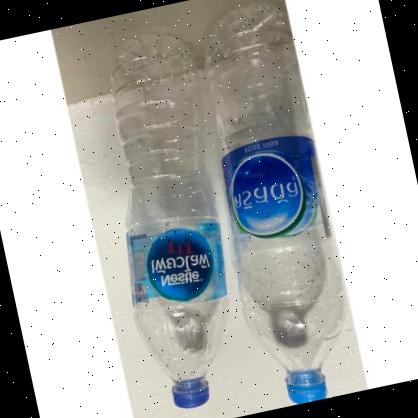bottle: (177, 0, 367, 411), (78, 24, 267, 416)
cap: (166, 374, 218, 411), (284, 368, 330, 404)
label: (218, 129, 332, 258), (117, 210, 231, 316)
